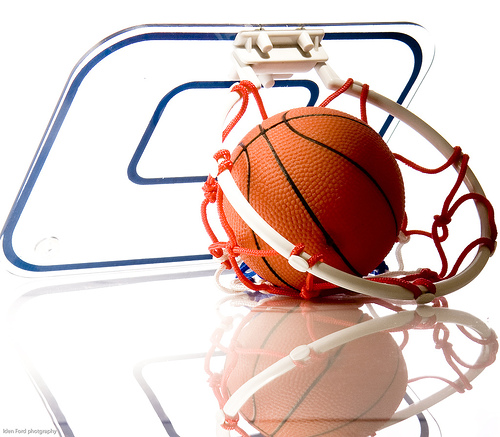basketball: (220, 106, 405, 295)
